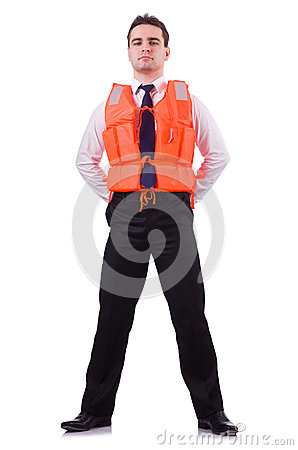reflective_clothes: (94, 71, 207, 213)
